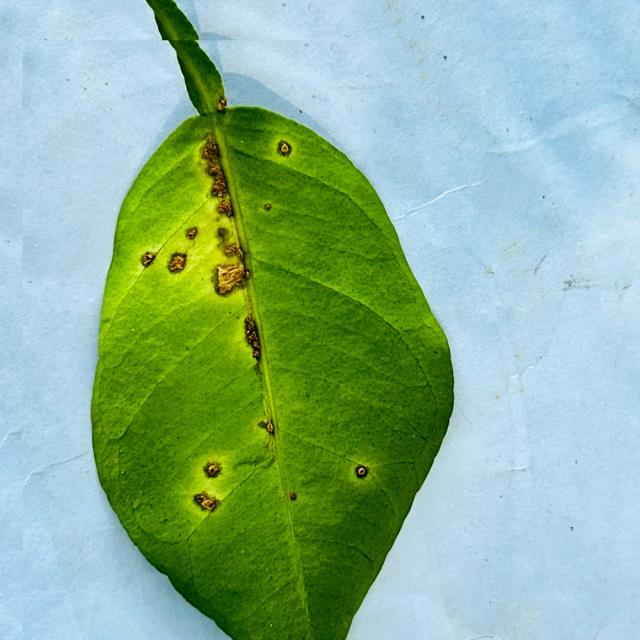Anthracnose: (263, 422, 309, 633), (197, 455, 279, 539), (187, 136, 252, 227), (224, 310, 291, 384), (211, 240, 266, 302), (181, 482, 226, 525), (396, 403, 435, 450), (370, 464, 400, 521), (162, 241, 193, 285), (346, 456, 378, 492), (191, 452, 227, 484), (339, 540, 376, 566), (174, 220, 205, 244), (140, 246, 164, 275), (273, 140, 295, 162), (201, 143, 219, 161), (217, 98, 227, 112)
Lemon: (89, 0, 454, 639)
